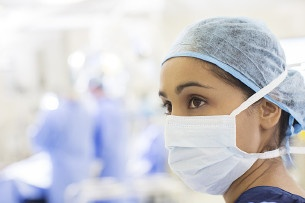Mask: (150, 76, 268, 193)
